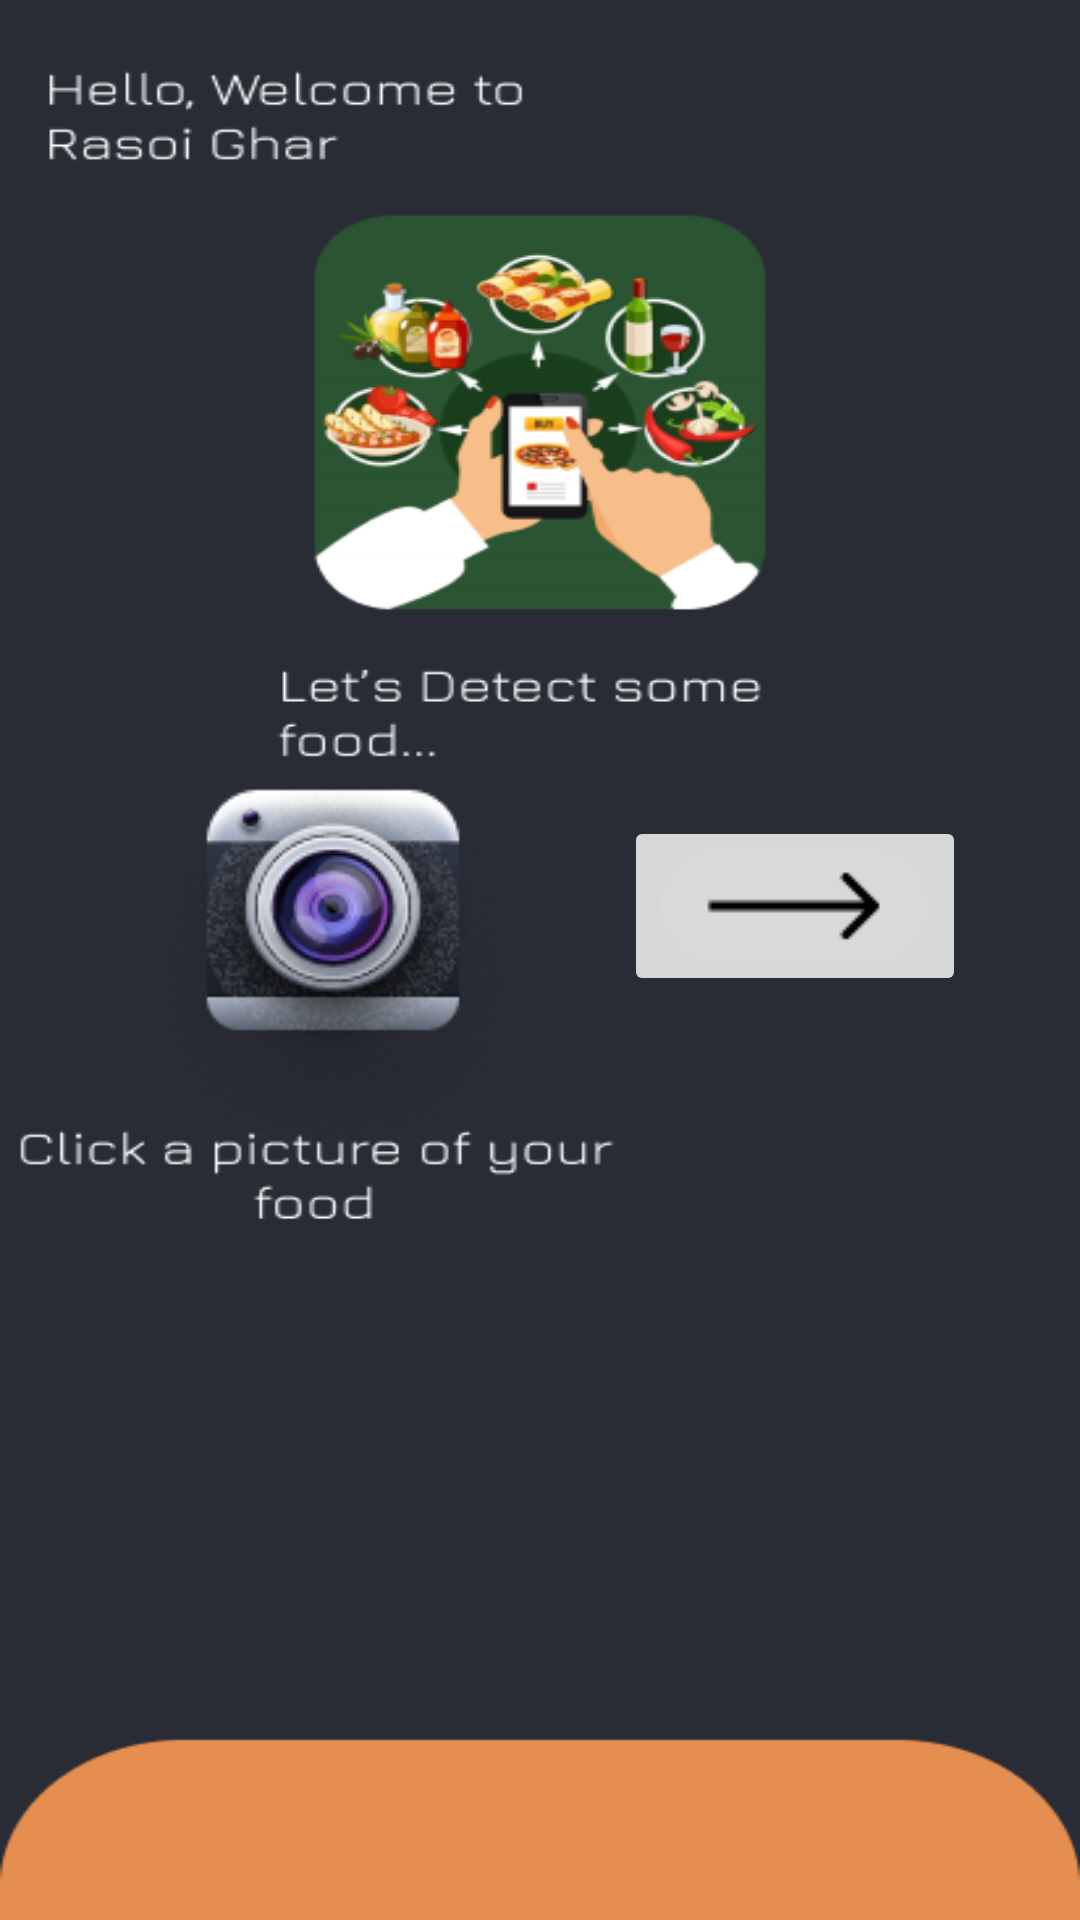

Named icons in this screenshot (1080px×1920px) and their bounding boxes, (x1, y1, x2, y2):
bigarrow: (636, 834, 954, 978)
camera: (206, 789, 460, 1140)
